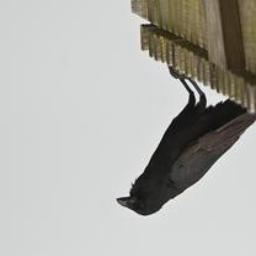Crow: (117, 64, 256, 219)
